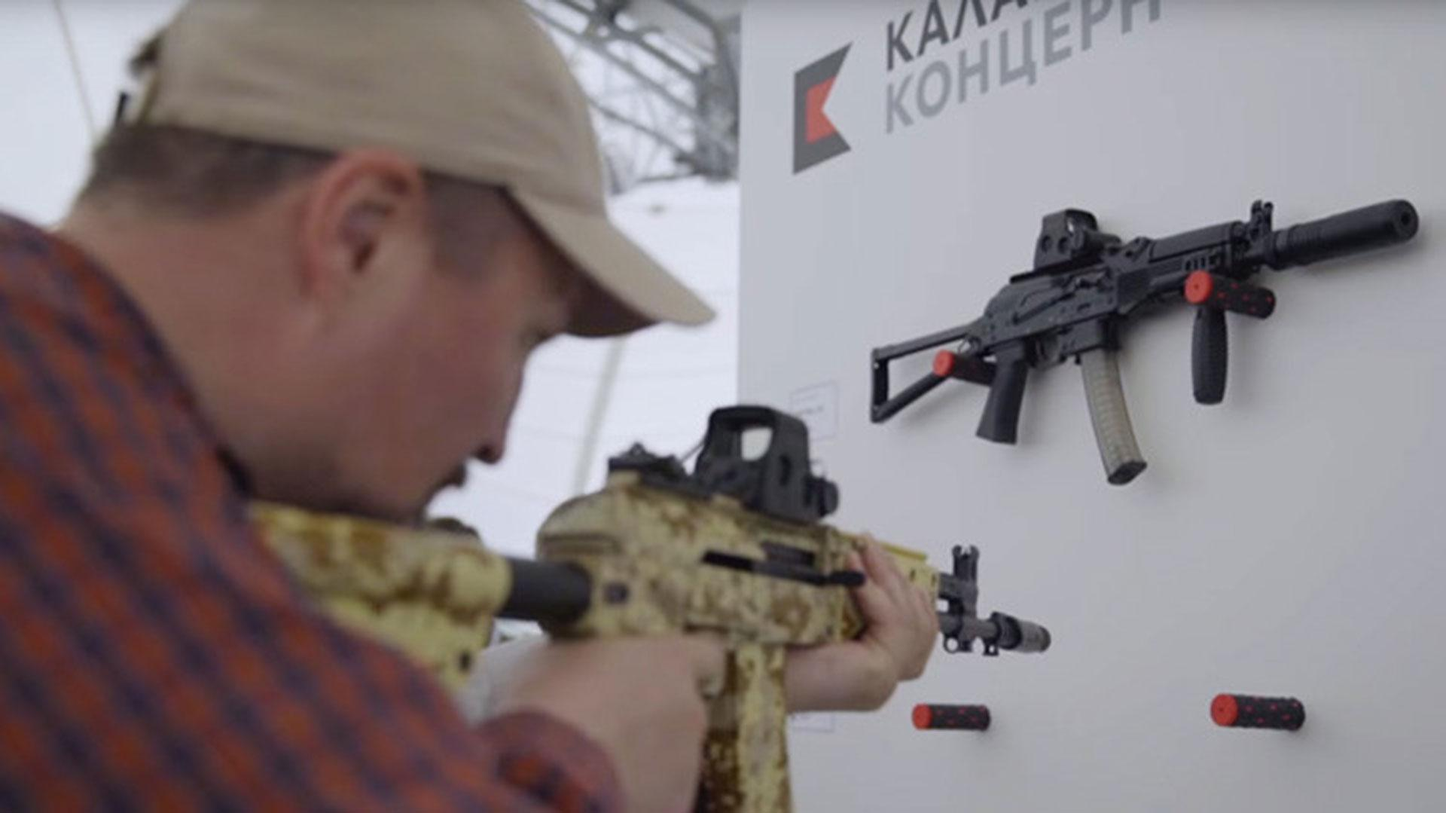larga: (236, 401, 1054, 813), (867, 198, 1424, 489)
